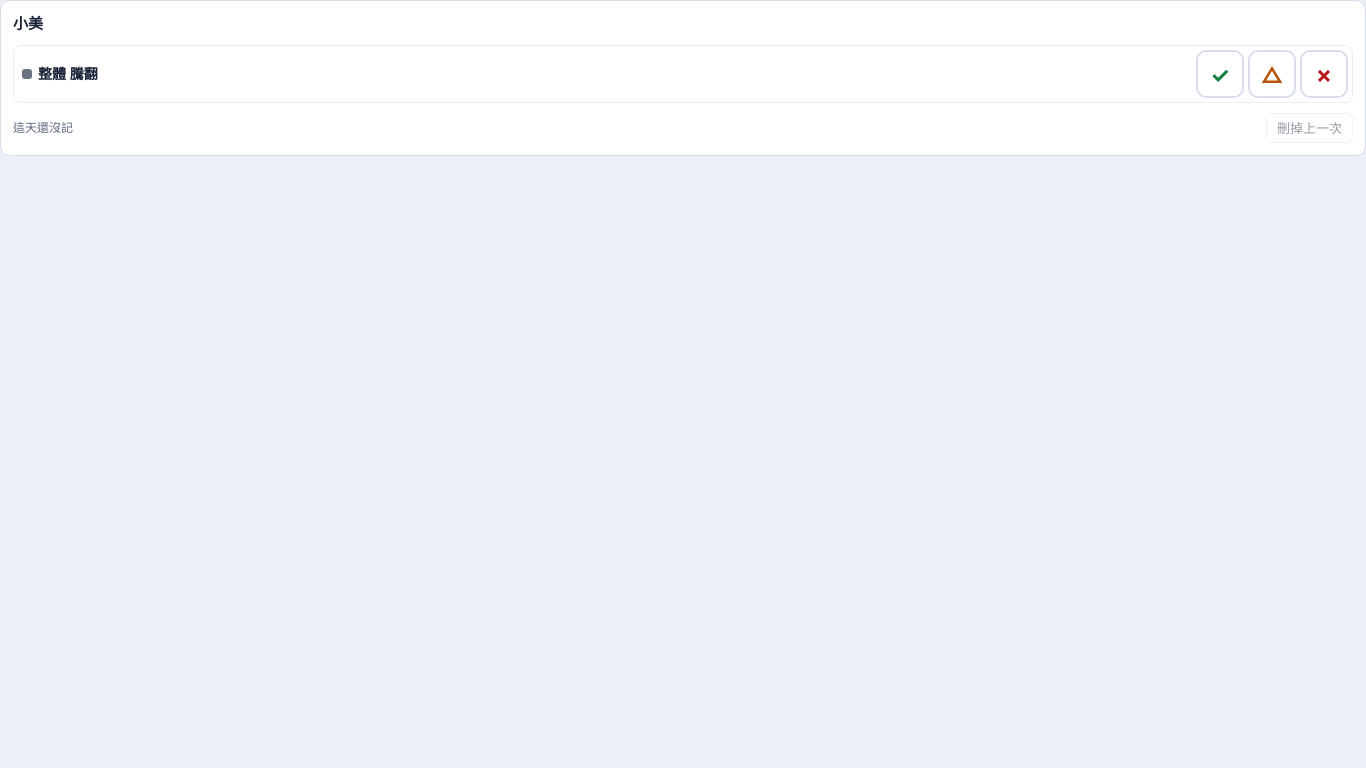
Test: 記錄頁的卡 › 只有一個環節的動作：卡上沒有「整個／只練幾個環節」和存檔鈕，點了記號就存成整個做
The image size is (1366, 768).
Click the button "△": point(1272, 74) left=1248, top=50, right=1296, bottom=98
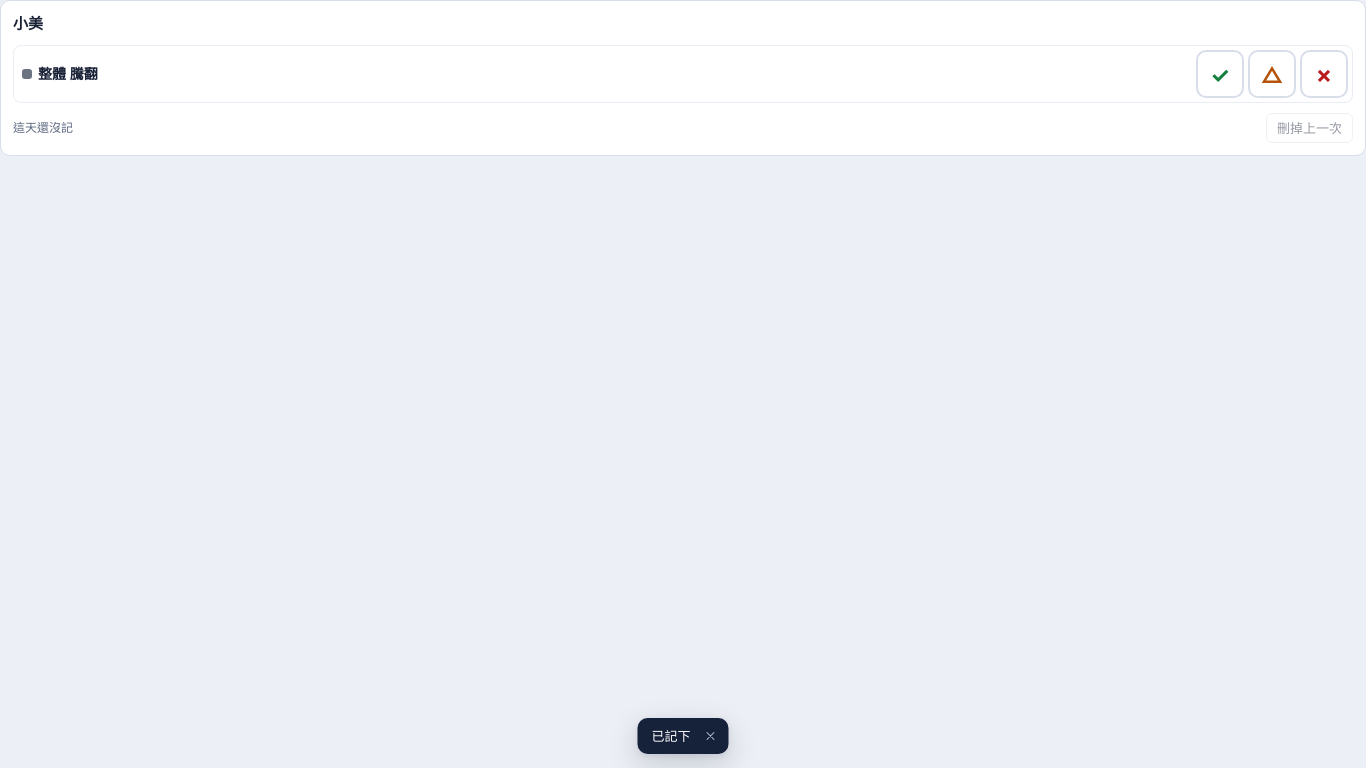
Check: the message reads "已記下", box left=652, top=727, right=690, bottom=745
